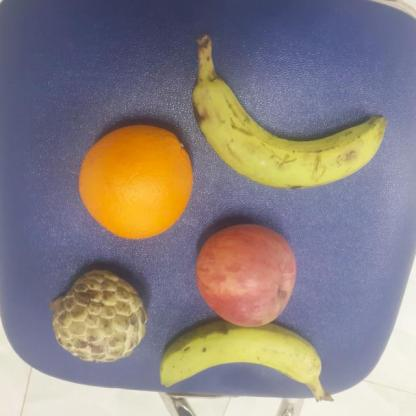annona: (50, 266, 151, 366)
apple: (192, 221, 301, 330)
banana: (187, 70, 391, 195), (158, 323, 326, 397)
orange: (75, 121, 199, 240)
